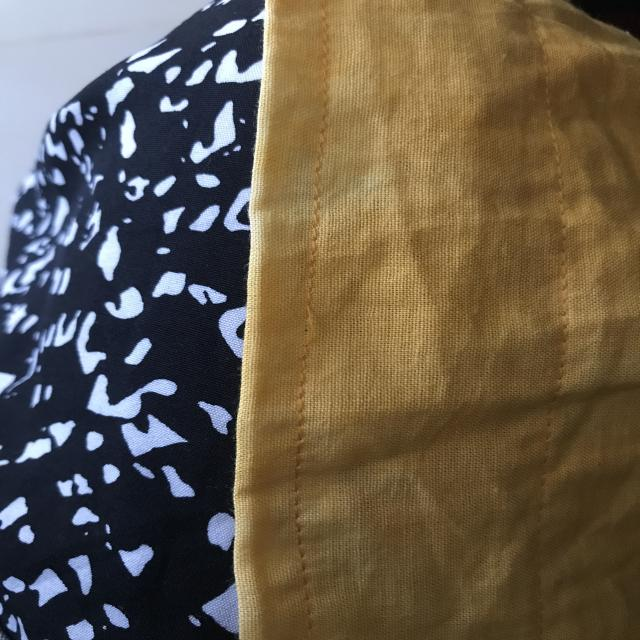skip: (301, 288, 324, 360)
